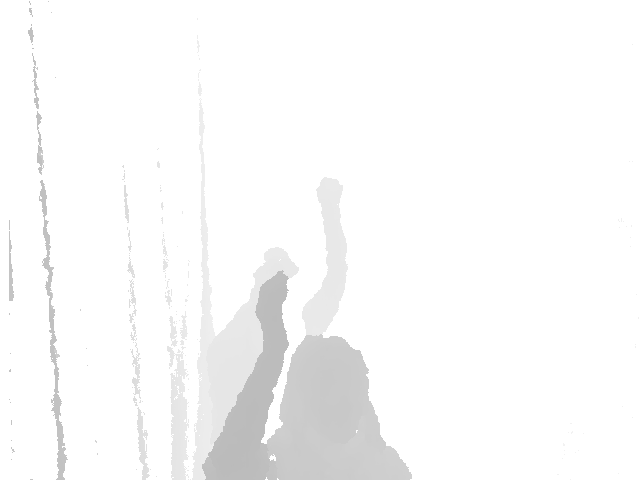hand: (254, 272, 289, 351), (316, 177, 343, 206)
head: (277, 333, 371, 436)
person: (201, 272, 412, 480), (203, 177, 348, 442)
